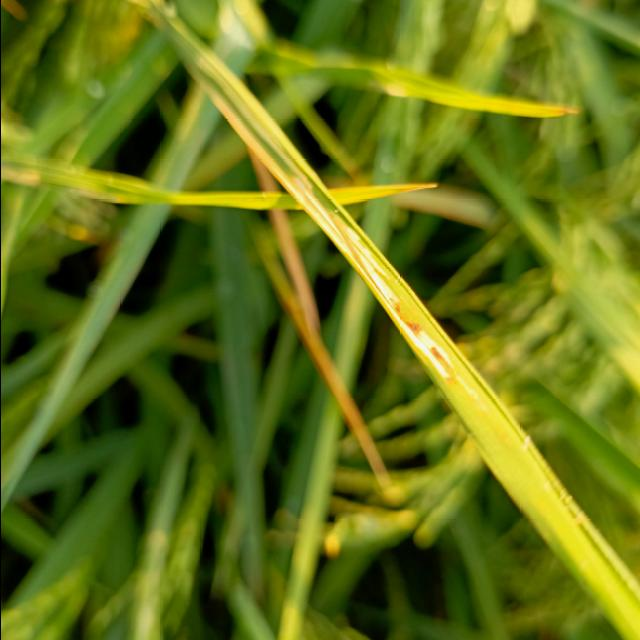Bacterial leaf blight: (285, 154, 463, 396)
